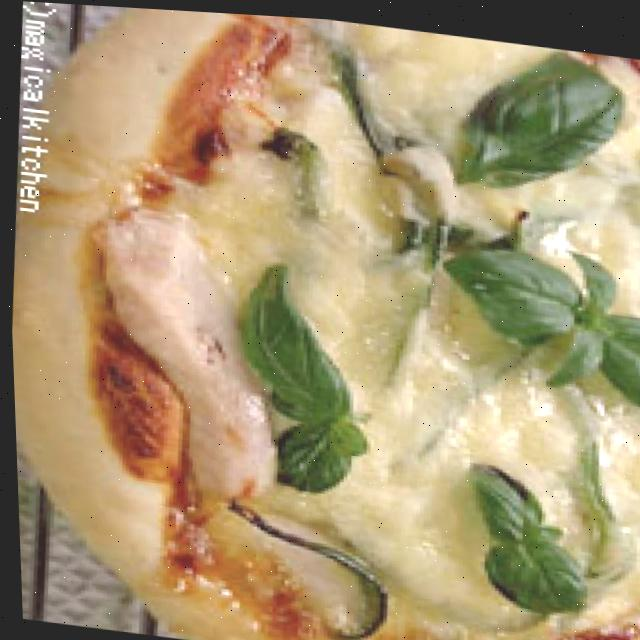汉堡快餐: (26, 1, 640, 640)
